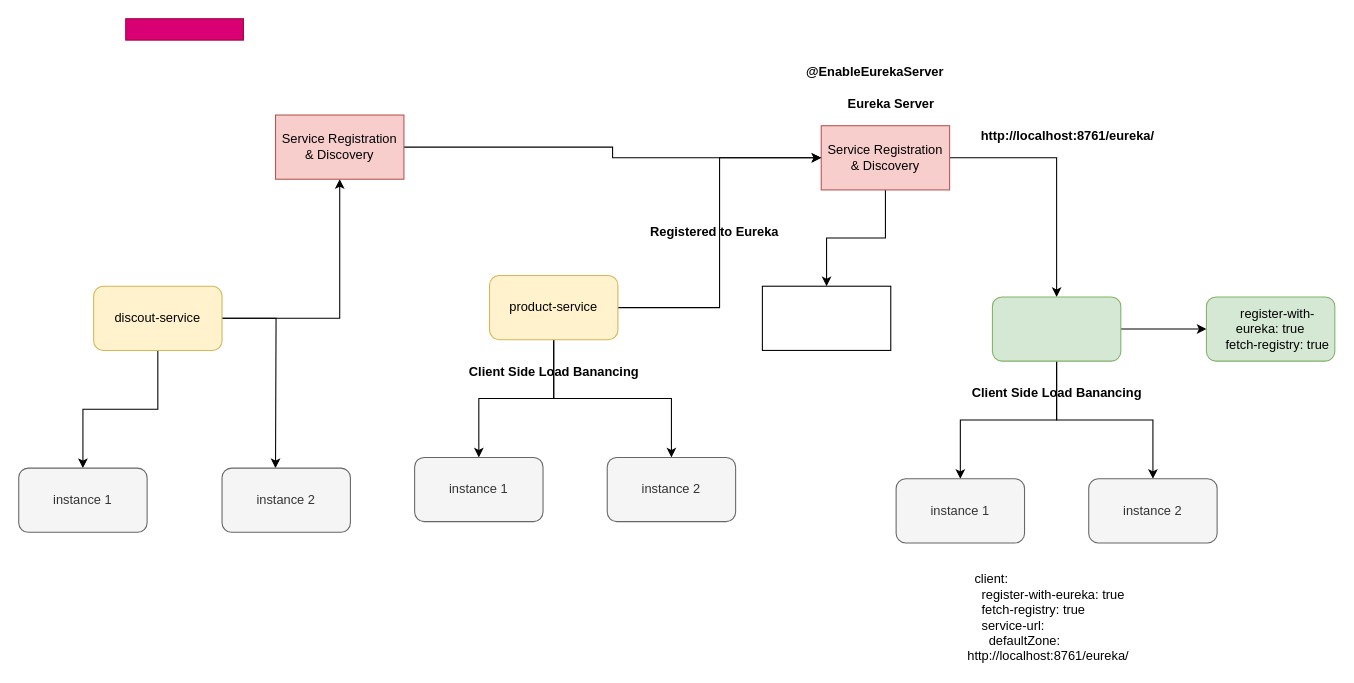
This 1354x683 diagram has some shape labels left out. Each missing label, with the centre of its shape:
"DNS not needed" belongs at (184,29).
"product-client" belongs at (1056,328).
"Registers microservices" belongs at (826,317).
